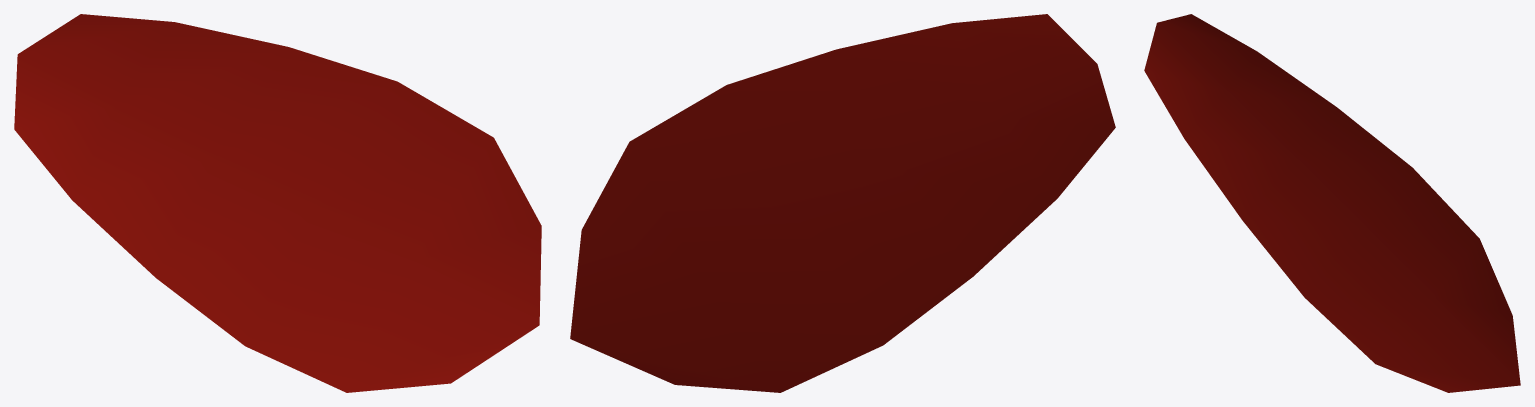
The model's file is ara_feather_flight_tertiary_060.obj.
3 views of the same model, side by side, from view 1: azimuth 30°, elevation 25°; view 2: azimuth 150°, elevation 25°; view 3: azimuth 330°, elevation 25° (orthographic). The views are drawn at different scales.
Parts seen in each view (by area): view 1: feather_flight_tertiary_060; view 2: feather_flight_tertiary_060; view 3: feather_flight_tertiary_060.
Part boxes in pixels (x1,y1,x2,y2): feather_flight_tertiary_060: (14, 14, 541, 392); feather_flight_tertiary_060: (570, 14, 1115, 392); feather_flight_tertiary_060: (1144, 14, 1520, 392).
Bounding box in the file's own units: 0.0313 × 0.0257 × 0.00111.
